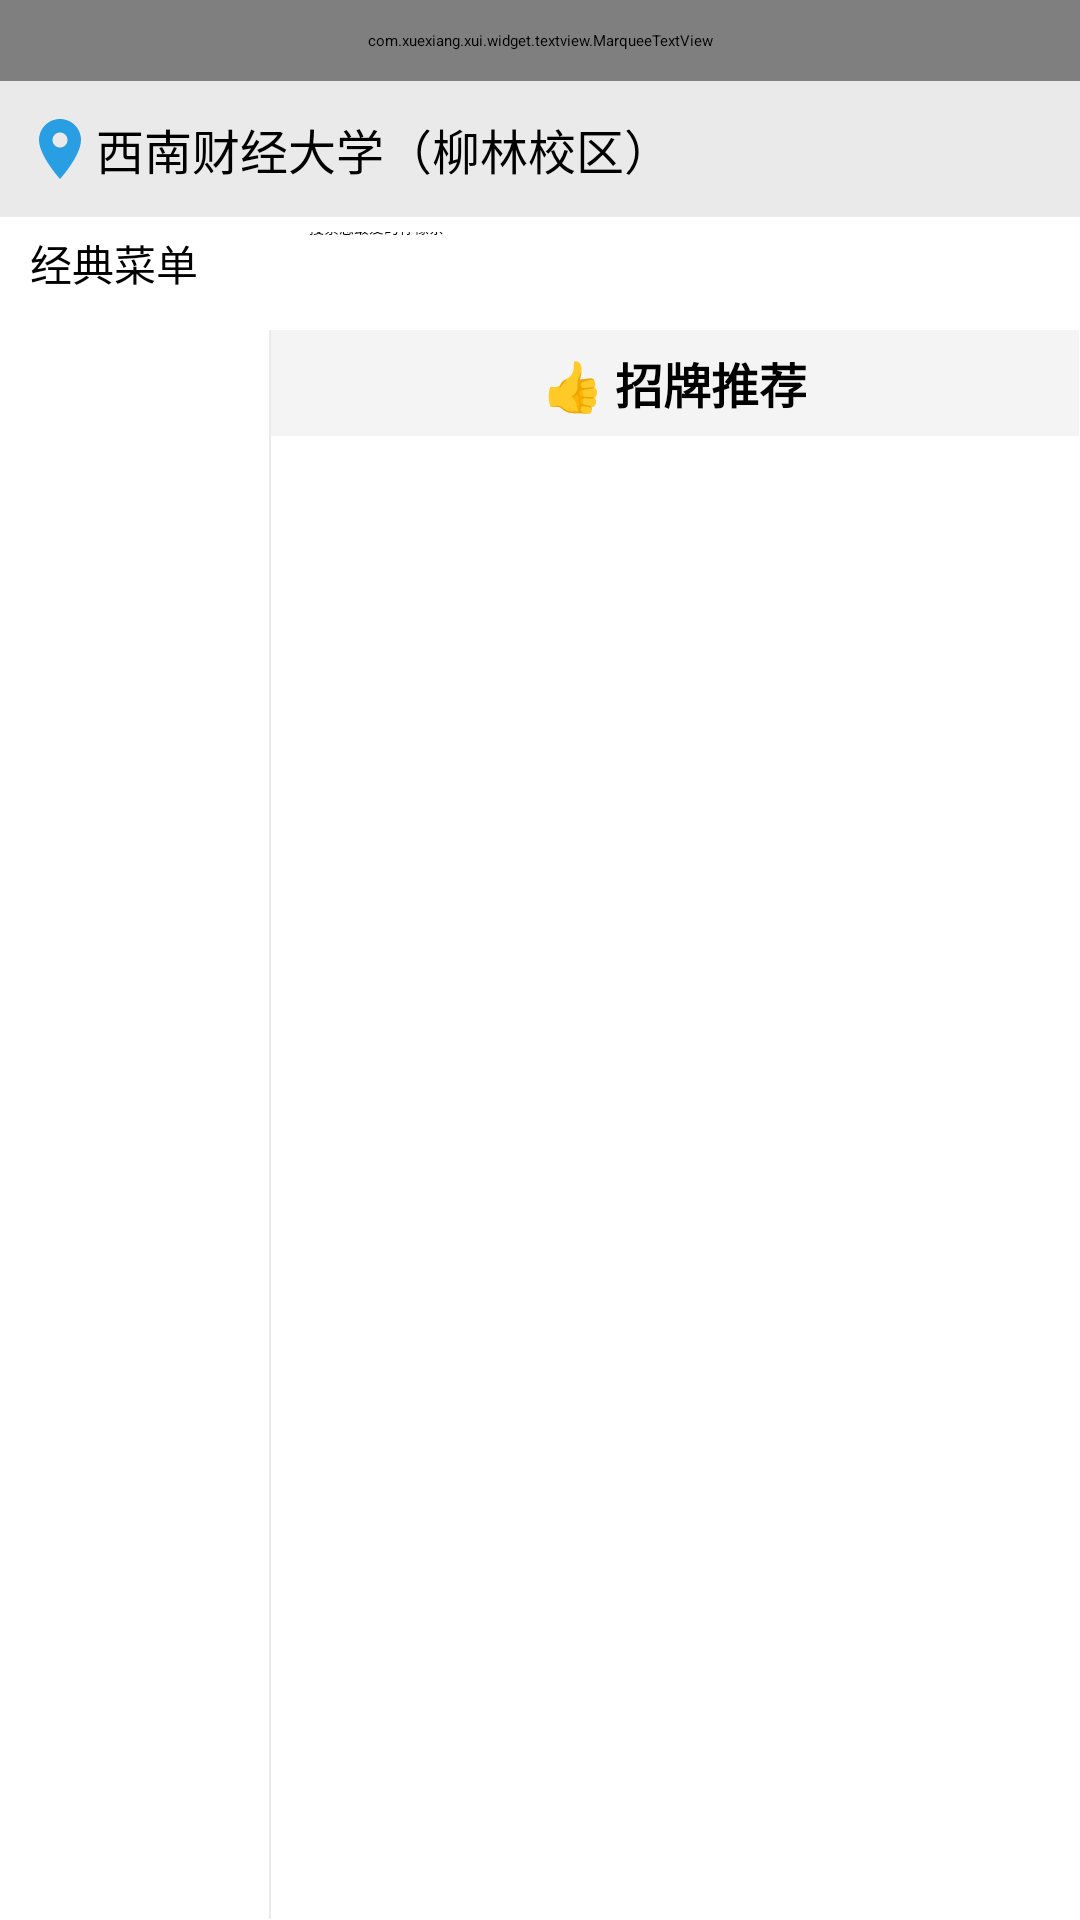

Point at icon controls on the screen. Image size 1080px x 1920px, points as (x=x, y=y).
location: (x=60, y=149)
